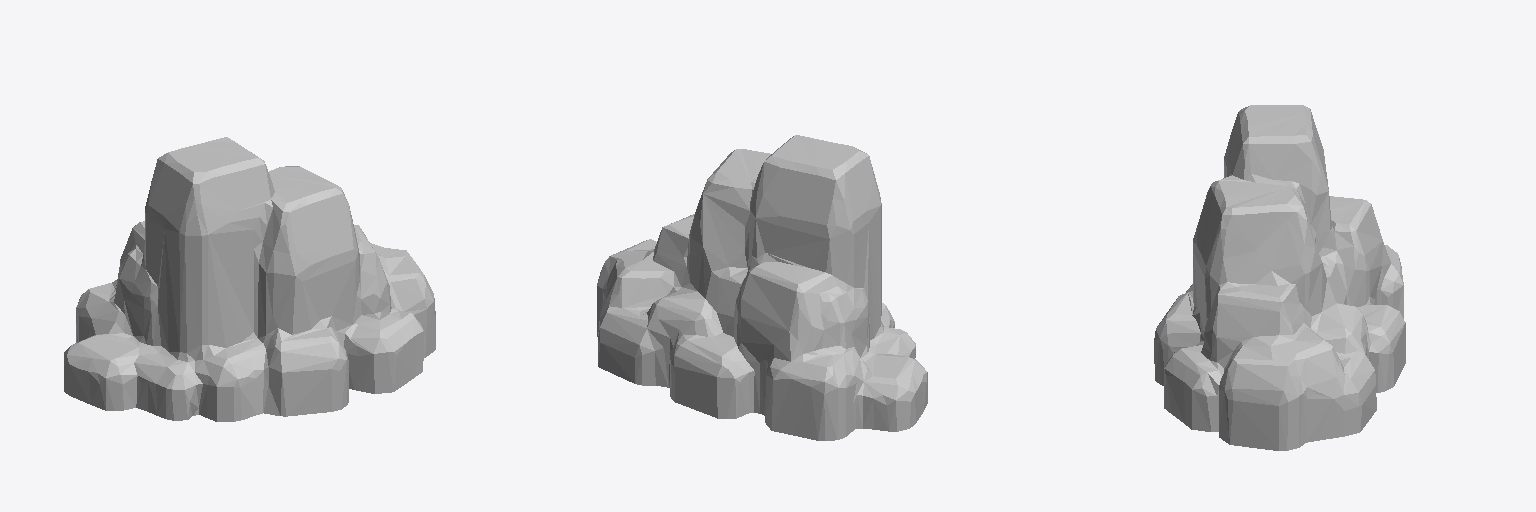
The model's file is _13_rock.obj.
3 renders of one model, left to right at view 1: azimuth 30°, elevation 25°; view 2: azimuth 150°, elevation 25°; view 3: azimuth 270°, elevation 25°, orthographic.
Visible parts, largest first — view 1: Rock_1__Cube.005; view 2: Rock_1__Cube.005; view 3: Rock_1__Cube.005.
Part boxes in pixels (bbox=[...]): Rock_1__Cube.005: bbox=[64, 137, 435, 421]; Rock_1__Cube.005: bbox=[597, 135, 927, 440]; Rock_1__Cube.005: bbox=[1154, 105, 1405, 450].
Size of the model in its own units: 2.51 by 1.62 by 1.63.